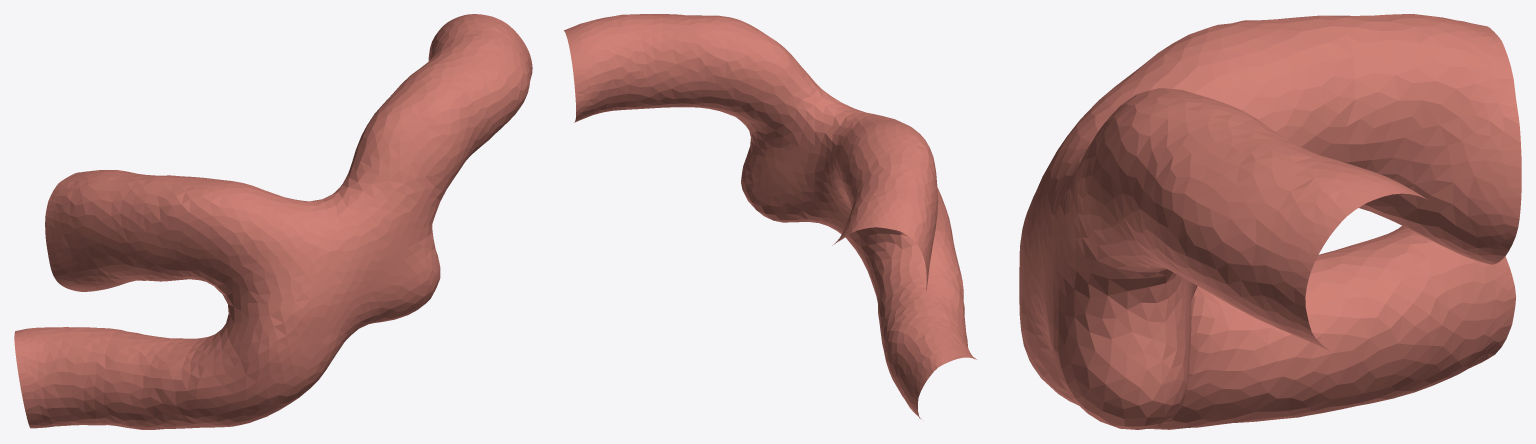
File: vessel_tree.glb
3 renders of one model, left to right at view 1: azimuth 30°, elevation 25°; view 2: azimuth 150°, elevation 25°; view 3: azimuth 270°, elevation 25°, orthographic. The views are drawn at different scales.
Visible parts, largest first — view 1: wall; view 2: wall; view 3: wall.
Boxes of the visible parts, x1,y1,x2,y2 form: wall: (14, 14, 532, 429); wall: (564, 14, 976, 419); wall: (1019, 14, 1521, 429).
Size of the model in its own units: 17.95 by 11.14 by 9.13.
